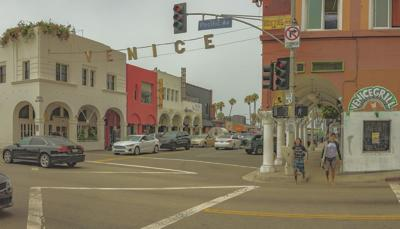International Road Signal Light: (275, 57, 290, 90), (172, 2, 187, 34), (262, 63, 272, 90)
